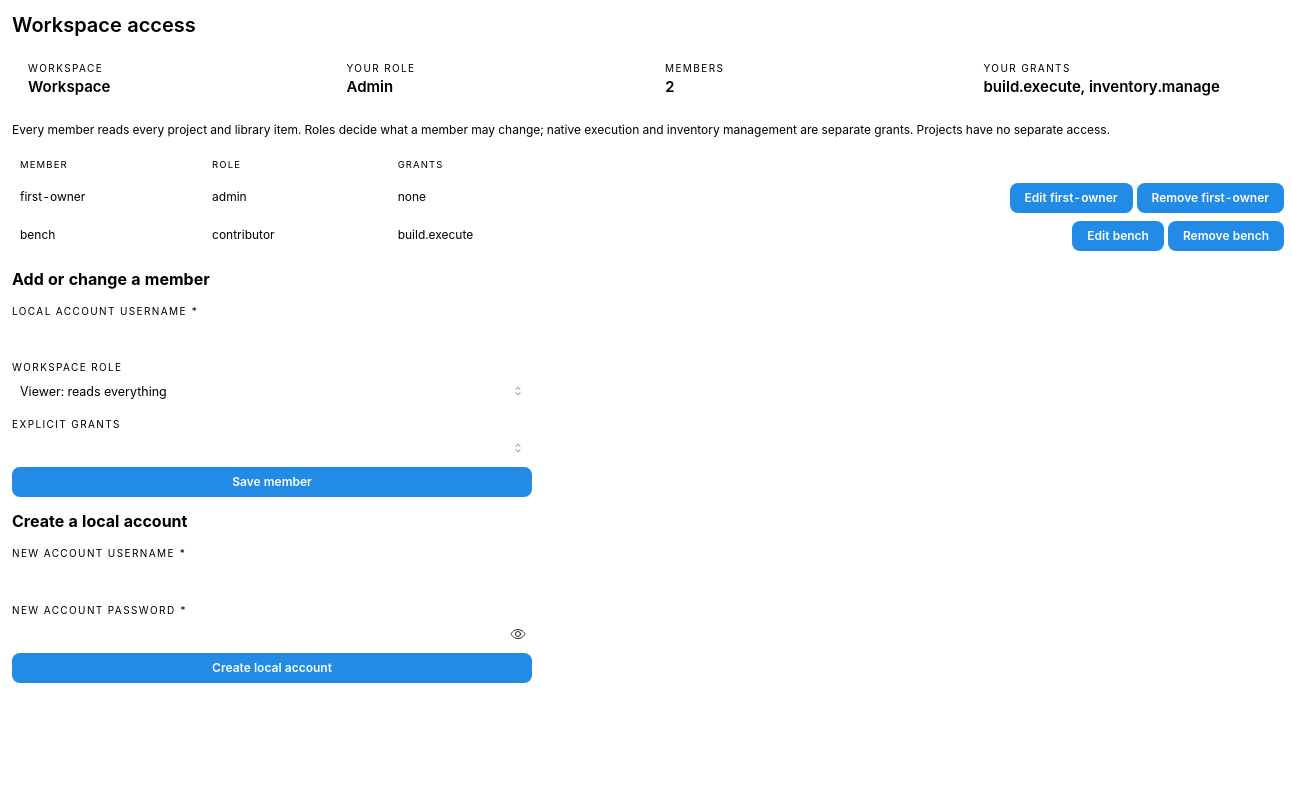
Test: a denied change clears the panel and asks the shell to re-read membership
What coordinates should you click on to do the following:
click the button "Remove bench"
I would click on:
 (1226, 236)
Its box is top-left (1168, 221), bottom-right (1284, 251).
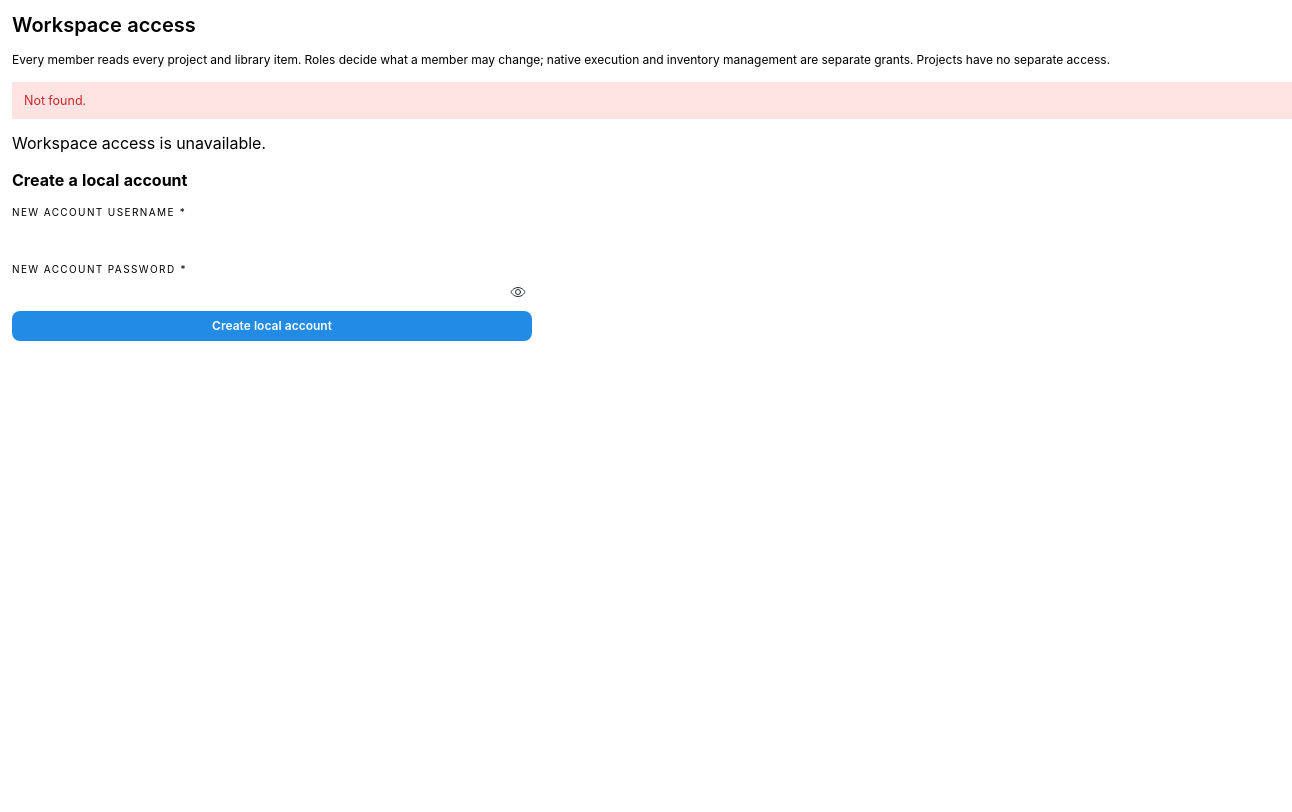
Result: the text "Not found." is shown at top-left (24, 93), bottom-right (86, 108)
Result: the text "first-owner" is gone
